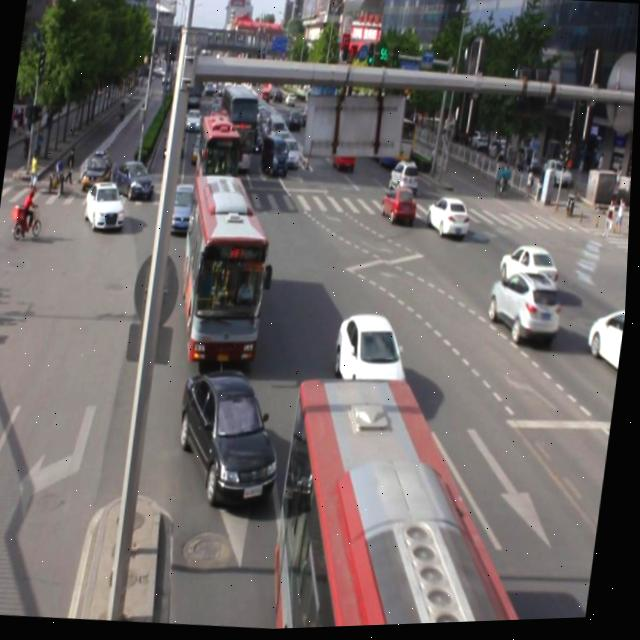car: (174, 364, 294, 513), (332, 310, 416, 410), (485, 270, 568, 353), (497, 243, 563, 301), (584, 307, 629, 384), (424, 196, 473, 242), (170, 181, 205, 235), (380, 187, 420, 228)
van: (272, 369, 565, 631), (175, 174, 280, 367)
